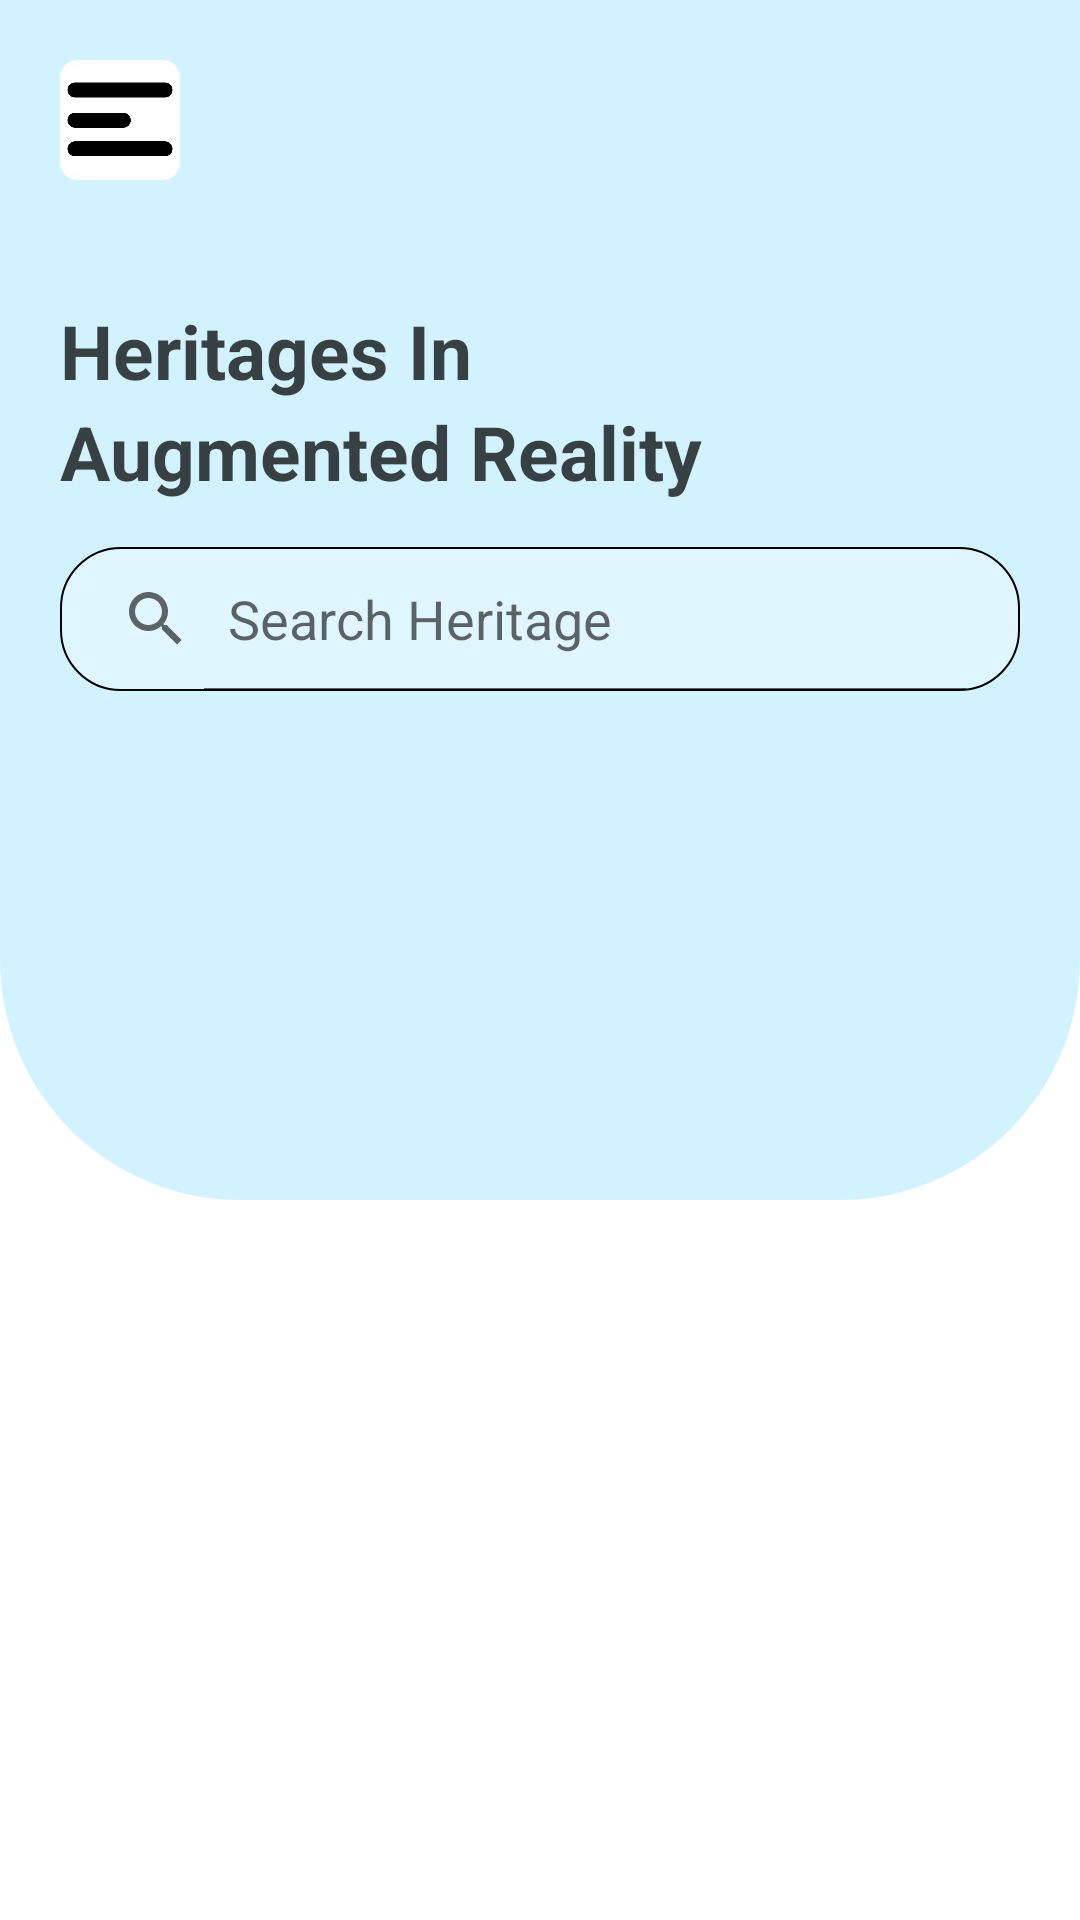

Named icons in this screenshot (1080px x 1920px) and their bounding boxes, (x1, y1, x2, y2):
navigation: (60, 60, 180, 180)
